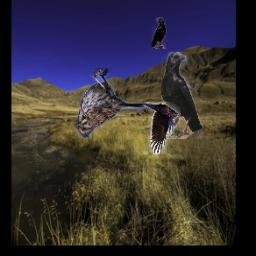Crow: (161, 53, 203, 140), (144, 103, 180, 155), (151, 18, 166, 50)
Sparrow: (75, 68, 148, 139)
